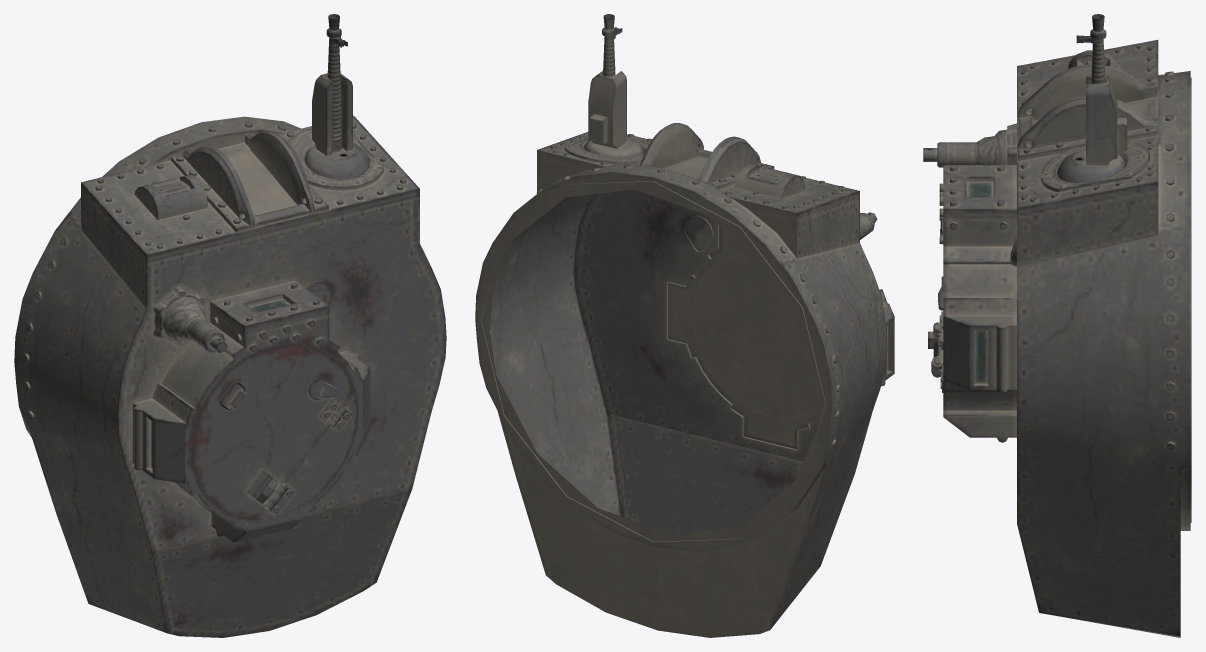
File: Turret_01.glb
3 renders of one model, left to right at view 1: azimuth 30°, elevation 25°; view 2: azimuth 150°, elevation 25°; view 3: azimuth 270°, elevation 25°, orthographic. The views are drawn at different scales.
Parts seen in each view (by area): view 1: set_0_group_0; view 2: set_0_group_0; view 3: set_0_group_0.
Boxes of the visible parts, x1,y1,x2,y2 form: set_0_group_0: (14,14,446,637); set_0_group_0: (475,14,894,637); set_0_group_0: (923,14,1191,637).
Size of the model in its own units: 1.37 by 2.07 by 0.7922.
1 material, 1 textured.
